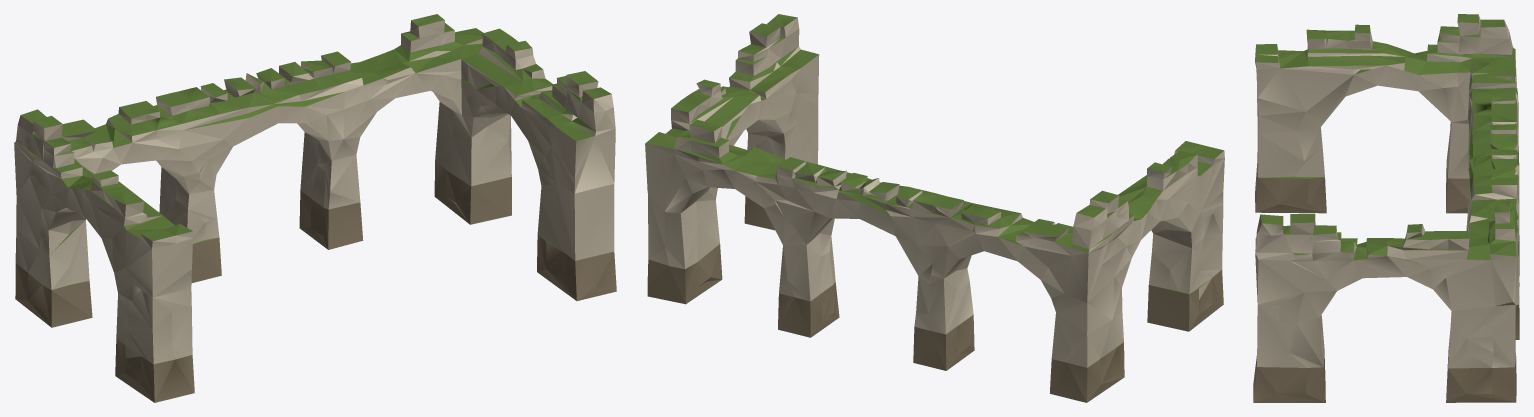
File: ruin-aqueduct.glb
3 renders of one model, left to right at view 1: azimuth 30°, elevation 25°; view 2: azimuth 150°, elevation 25°; view 3: azimuth 270°, elevation 25°, orthographic. The views are drawn at different scales.
Parts seen in each view (by area): view 1: ruin-aqueduct; view 2: ruin-aqueduct; view 3: ruin-aqueduct.
Boxes of the visible parts, x1,y1,x2,y2 form: ruin-aqueduct: (14, 14, 616, 402); ruin-aqueduct: (645, 14, 1224, 402); ruin-aqueduct: (1253, 14, 1519, 402).
Size of the model in its own units: 29.82 by 12 by 15.95.
